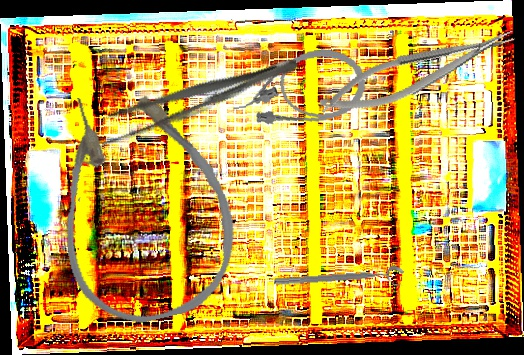Cannula: (34, 70, 251, 336), (226, 43, 371, 134)
Dressing Forceps: (92, 46, 303, 152)
Fixation Ring: (273, 265, 406, 296)
Needle Holder: (312, 20, 523, 125)
